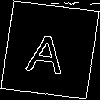A: (25, 25, 70, 75)
